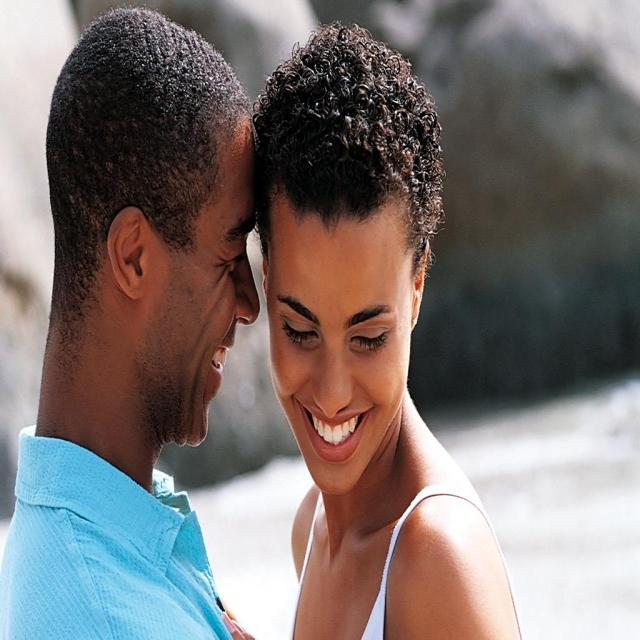Face: (260, 140, 418, 502), (170, 117, 261, 449)
